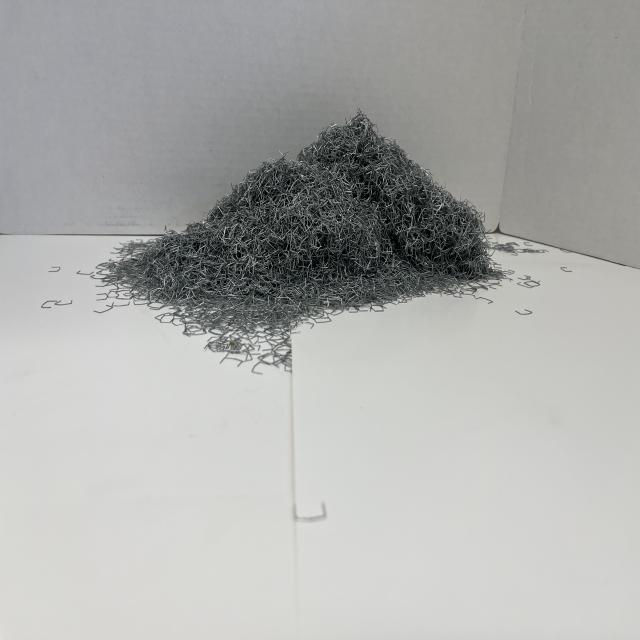staples: (88, 108, 502, 374)
